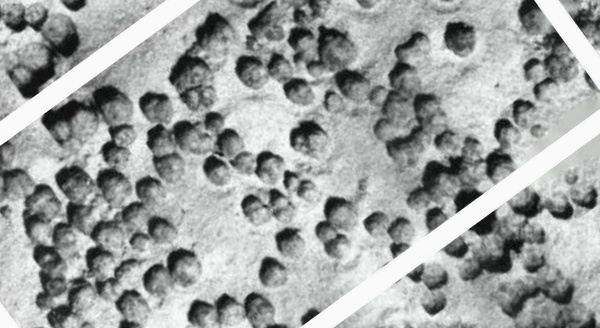halobolite: (516, 297, 591, 327), (316, 22, 360, 68), (246, 1, 289, 48), (195, 11, 230, 62), (175, 61, 214, 105), (535, 266, 578, 305), (496, 277, 541, 313), (19, 31, 55, 74), (143, 262, 175, 306), (475, 235, 511, 274), (291, 119, 326, 159), (28, 182, 66, 218), (241, 290, 277, 328), (115, 124, 148, 165), (445, 22, 482, 57), (394, 28, 428, 66), (68, 102, 100, 142), (393, 126, 424, 167), (483, 152, 517, 189), (507, 183, 544, 217), (136, 174, 169, 212), (145, 85, 176, 125), (289, 27, 322, 64), (48, 107, 78, 147), (168, 247, 197, 288), (234, 52, 264, 91), (272, 226, 304, 262), (510, 89, 542, 125), (114, 291, 150, 323), (98, 90, 128, 128), (200, 105, 233, 139), (114, 200, 141, 241), (43, 14, 74, 49), (265, 50, 294, 87), (3, 168, 31, 206), (34, 248, 68, 279), (49, 294, 80, 328), (93, 140, 122, 176), (420, 162, 452, 194), (6, 58, 40, 88), (279, 162, 309, 195), (171, 112, 200, 146), (382, 94, 413, 125), (62, 153, 90, 187), (23, 213, 51, 247), (217, 293, 244, 328), (333, 68, 369, 94), (146, 217, 182, 243), (284, 76, 314, 106), (79, 213, 108, 244), (488, 117, 516, 149), (244, 183, 268, 220), (51, 225, 80, 255), (186, 298, 215, 328), (516, 1, 545, 31), (35, 279, 67, 306), (267, 194, 291, 230), (571, 179, 597, 212), (411, 94, 443, 120), (519, 221, 551, 247), (201, 160, 234, 185), (325, 234, 354, 262), (84, 253, 116, 278), (259, 149, 283, 182), (326, 197, 354, 225), (115, 259, 141, 289), (218, 128, 243, 159), (516, 248, 547, 273), (419, 288, 447, 315), (161, 151, 187, 180), (432, 126, 455, 158), (545, 191, 572, 218), (530, 75, 563, 97), (422, 263, 449, 289), (460, 136, 485, 164), (152, 125, 174, 156), (233, 149, 258, 176), (406, 182, 430, 210), (322, 86, 345, 115), (363, 207, 386, 236), (111, 166, 141, 188), (391, 212, 413, 242), (24, 1, 48, 27), (462, 257, 486, 281), (1, 1, 23, 27), (257, 265, 283, 286), (522, 52, 543, 78), (425, 208, 447, 230), (316, 218, 336, 242), (389, 63, 410, 84), (300, 183, 318, 205), (141, 154, 160, 173)
